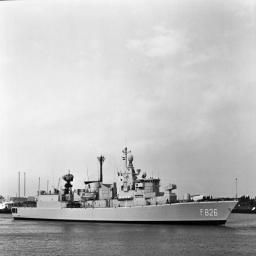Fragata: (9, 139, 240, 229)
